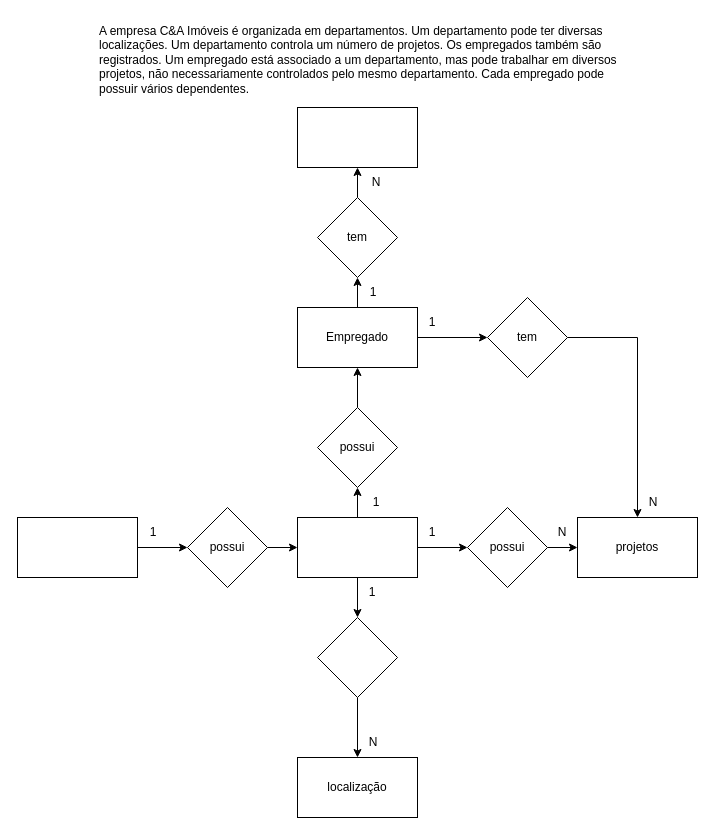
Image size: 715x835. Some labels were removed from this diagram. The shapes that lost their labels are listed below. From the top down, each one's centre as x and y in pixels, then its label:
point (357, 137): dependentes
point (77, 547): C&A
point (357, 547): departamentos
point (357, 657): controla
